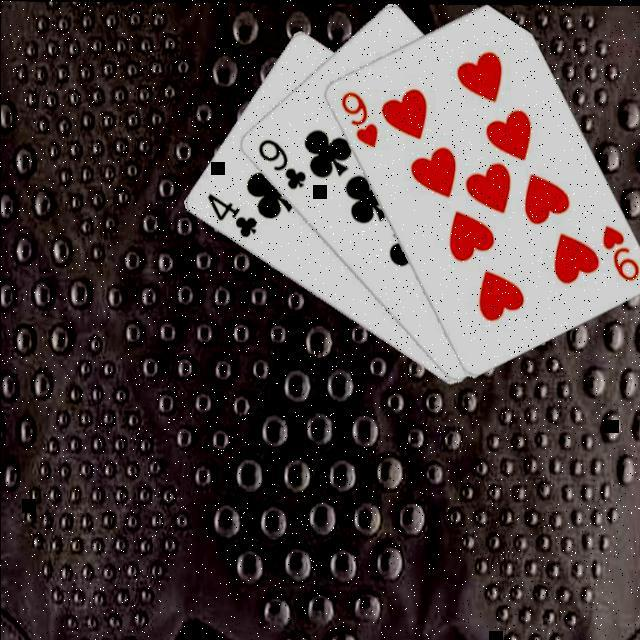4C: (203, 191, 260, 241)
9C: (254, 136, 310, 193)
9H: (338, 88, 382, 150), (600, 222, 640, 284)
